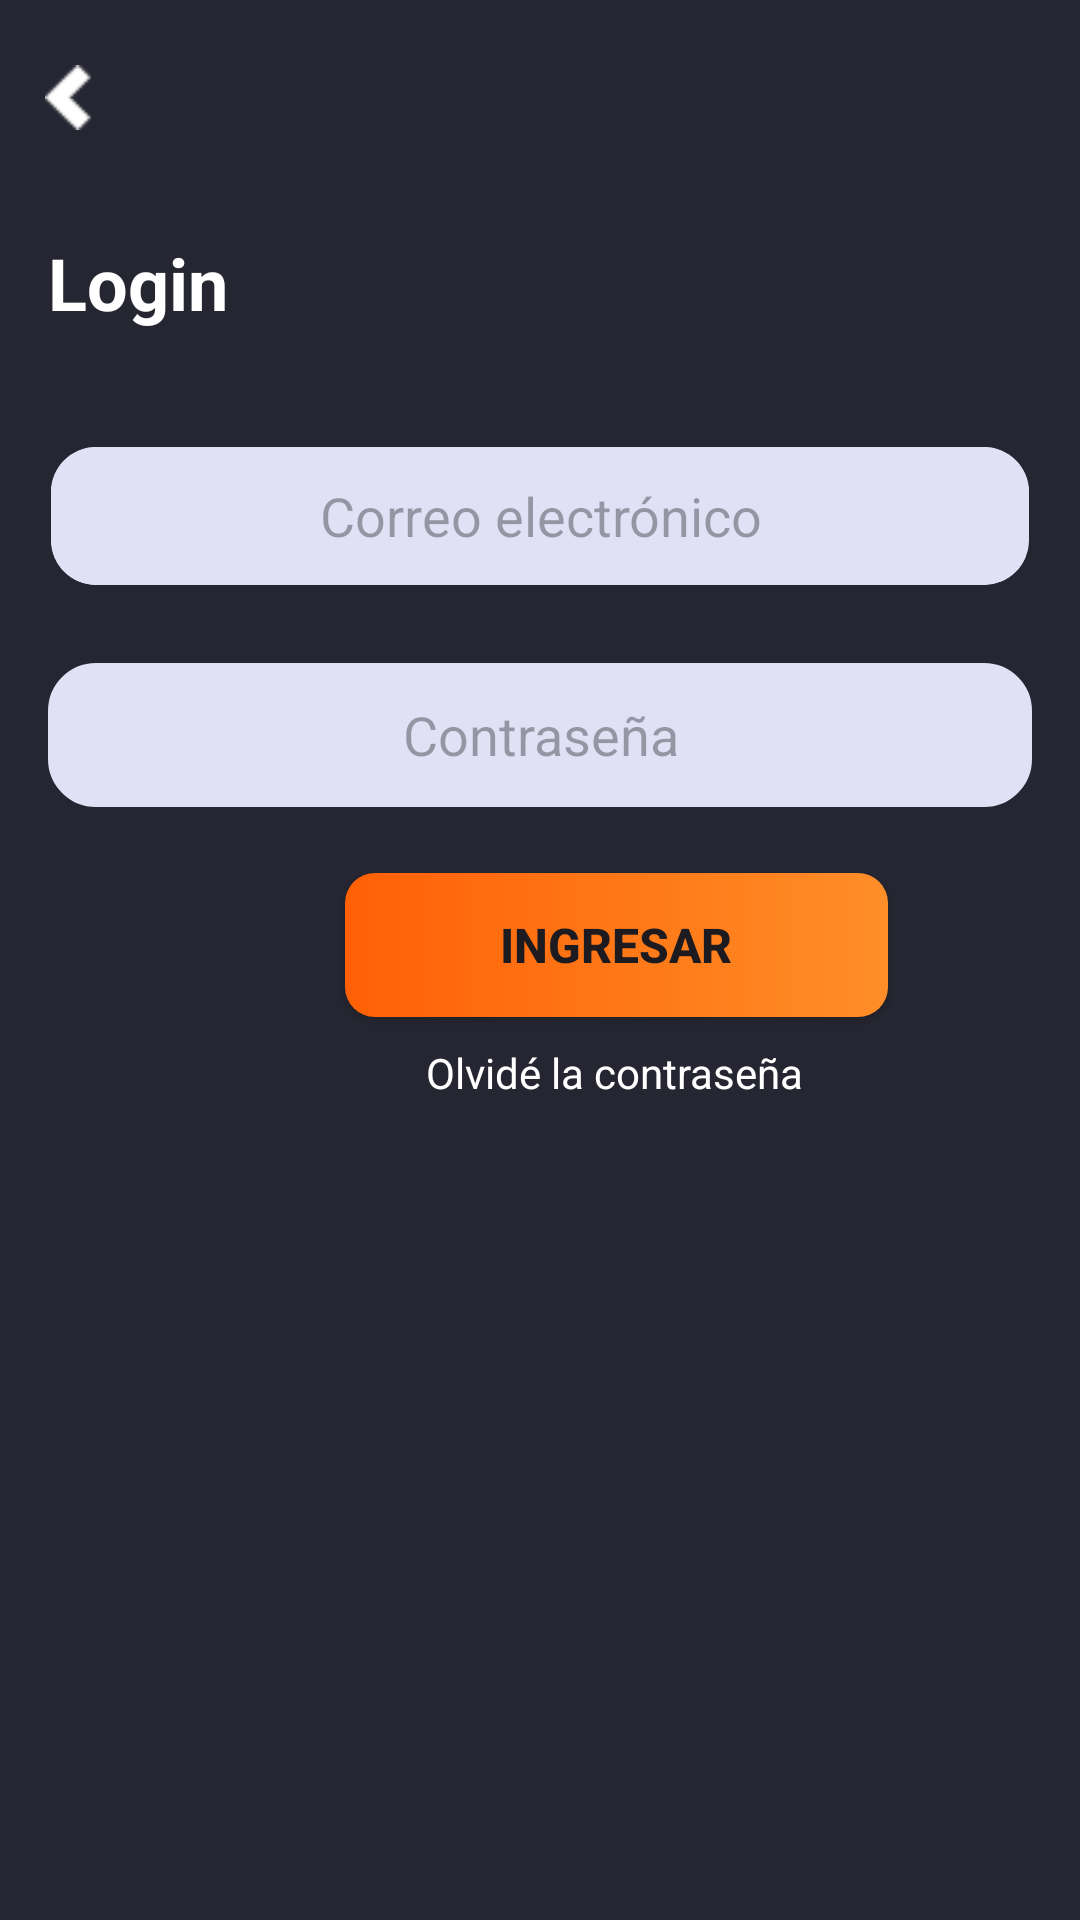

Icon click points for this 1080 × 1920 phone screenshot, format (x,y):
flecha volver: (68,97)
